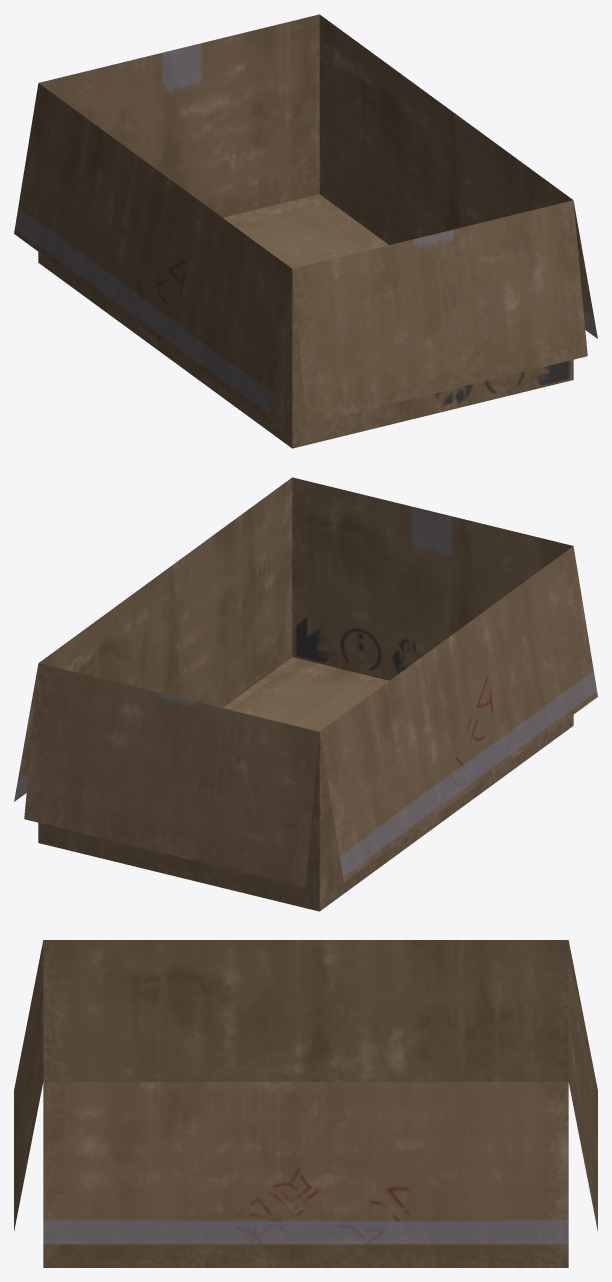
The picture shows the model from 3 angles, top to bottom: view 1: azimuth 30°, elevation 25°; view 2: azimuth 150°, elevation 25°; view 3: azimuth 270°, elevation 25°; orthographic projection. The views are drawn at different scales.
Parts seen in each view (by area): view 1: Box_1-b_Boxes_0; view 2: Box_1-b_Boxes_0; view 3: Box_1-b_Boxes_0.
Boxes of the visible parts, x1,y1,x2,y2 form: Box_1-b_Boxes_0: [14, 14, 597, 448]; Box_1-b_Boxes_0: [14, 477, 597, 911]; Box_1-b_Boxes_0: [14, 940, 597, 1267].
Bounding box in the file's own units: 0.2172 × 0.113 × 0.3218.
1 material, 1 textured.
